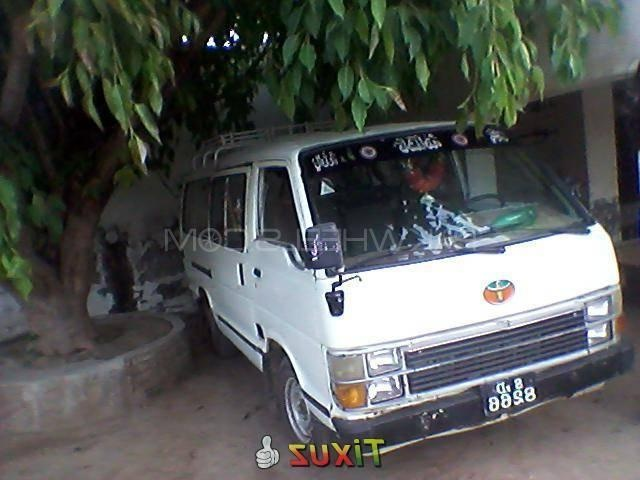van: (173, 116, 626, 461)
